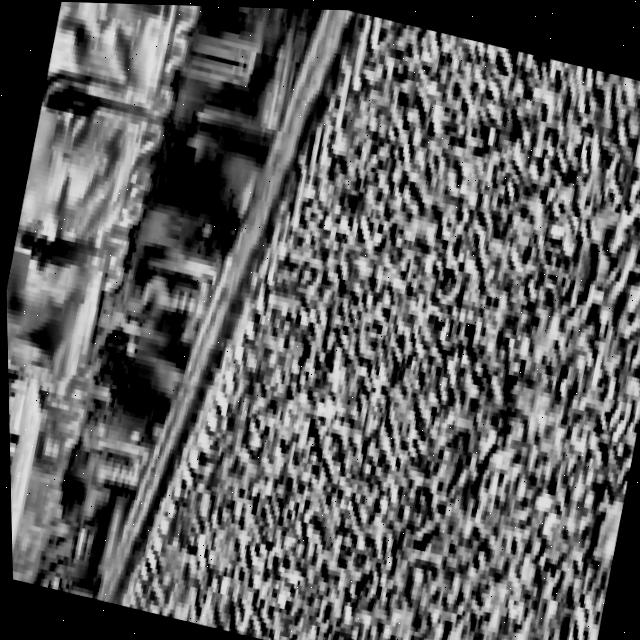Gerbong: (0, 0, 423, 534), (7, 385, 158, 605)
